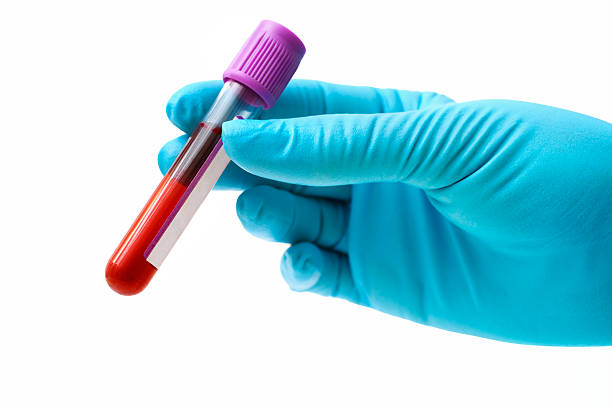blood: (105, 121, 228, 296)
